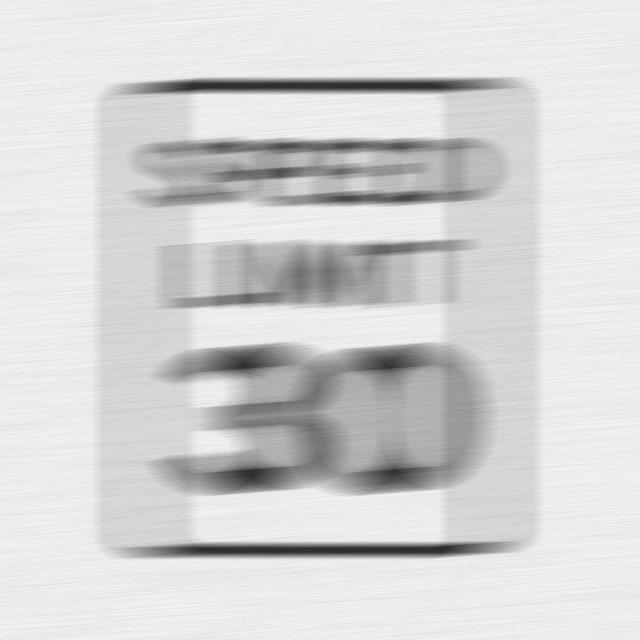speedLimit30: (118, 74, 516, 562)
